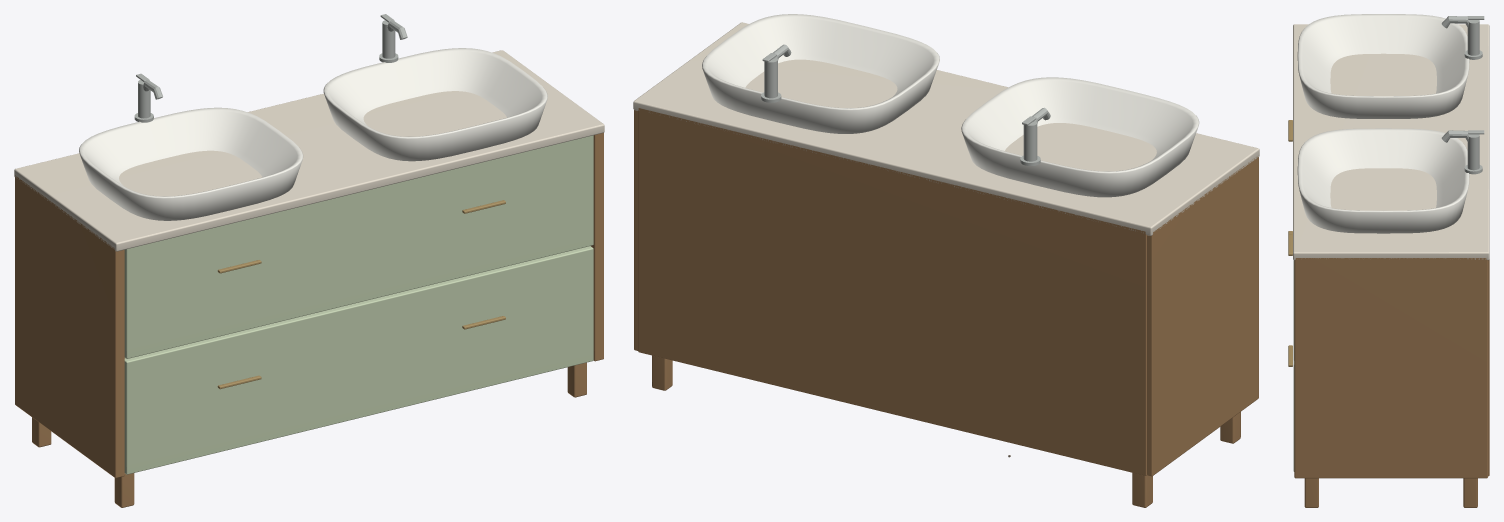
Rendered from double-bath-vanity.glb.
The picture shows the model from 3 angles, left to right: view 1: azimuth 30°, elevation 25°; view 2: azimuth 150°, elevation 25°; view 3: azimuth 270°, elevation 25°; orthographic projection. The views are drawn at different scales.
Visible parts, largest first — view 1: double-bath-vanity authored assembly; view 2: double-bath-vanity authored assembly; view 3: double-bath-vanity authored assembly.
Part boxes in pixels (bbox=[...]): double-bath-vanity authored assembly: bbox=[14, 14, 604, 507]; double-bath-vanity authored assembly: bbox=[633, 14, 1259, 507]; double-bath-vanity authored assembly: bbox=[1288, 14, 1489, 507].
Bounding box in the file's own units: 1.4 × 0.93 × 0.52.
